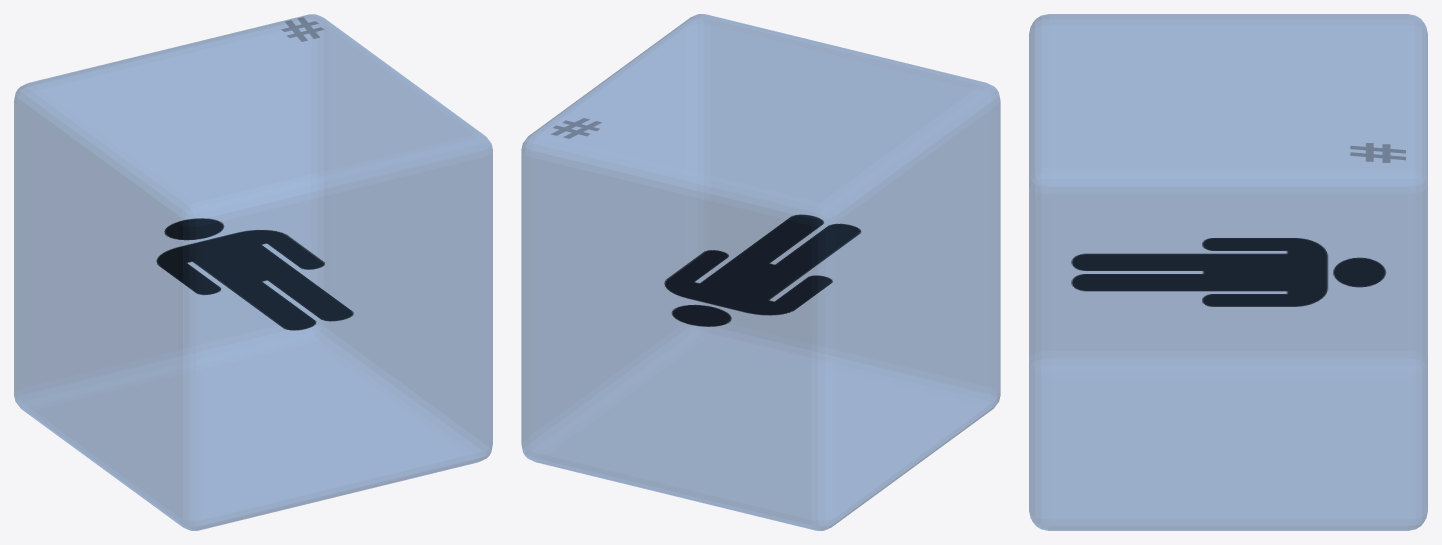
Rendered from TEST_Subjekt_Hashtag.dae.
3 renders of one model, left to right at view 1: azimuth 30°, elevation 25°; view 2: azimuth 150°, elevation 25°; view 3: azimuth 270°, elevation 25°, orthographic. The views are drawn at different scales.
Visible parts, largest first — view 1: Cube, Plane_001; view 2: Cube, Plane_001; view 3: Cube, Plane_001, Plane.
Part boxes in pixels (x1=…): Cube: x1=14, y1=14, x2=492, y2=530; Plane_001: x1=156, y1=218, x2=353, y2=330; Cube: x1=521, y1=14, x2=1000, y2=530; Plane_001: x1=664, y1=214, x2=861, y2=326; Cube: x1=1029, y1=14, x2=1427, y2=530; Plane_001: x1=1071, y1=238, x2=1386, y2=306; Plane: x1=1350, y1=143, x2=1405, y2=162.
Bounding box in the file's own units: 2 × 2 × 2.01.
3 materials, 2 textured.
